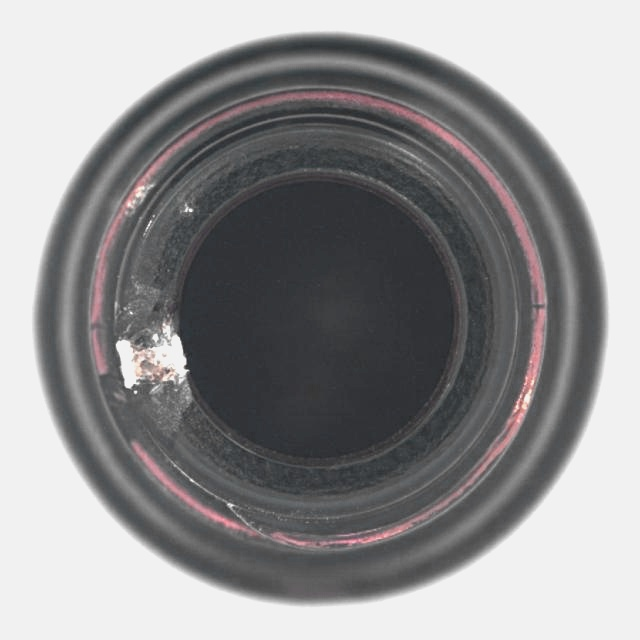bad-broken_small: (31, 29, 612, 611)
